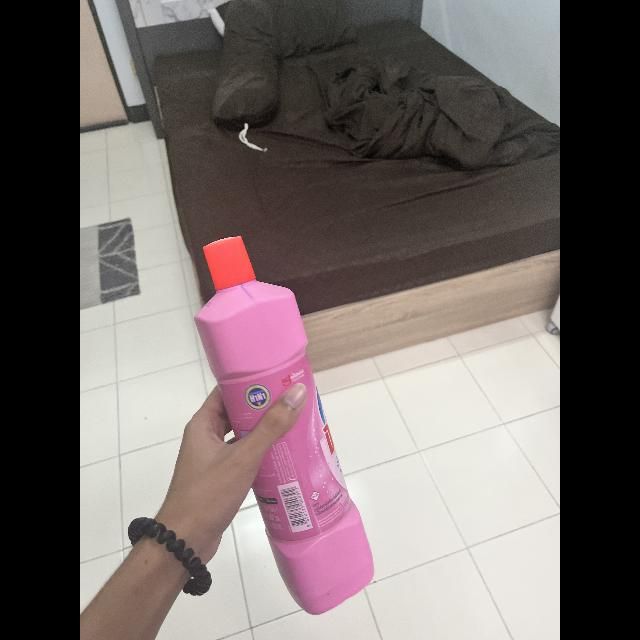chemical_plastic_bottle: (193, 230, 375, 616)
